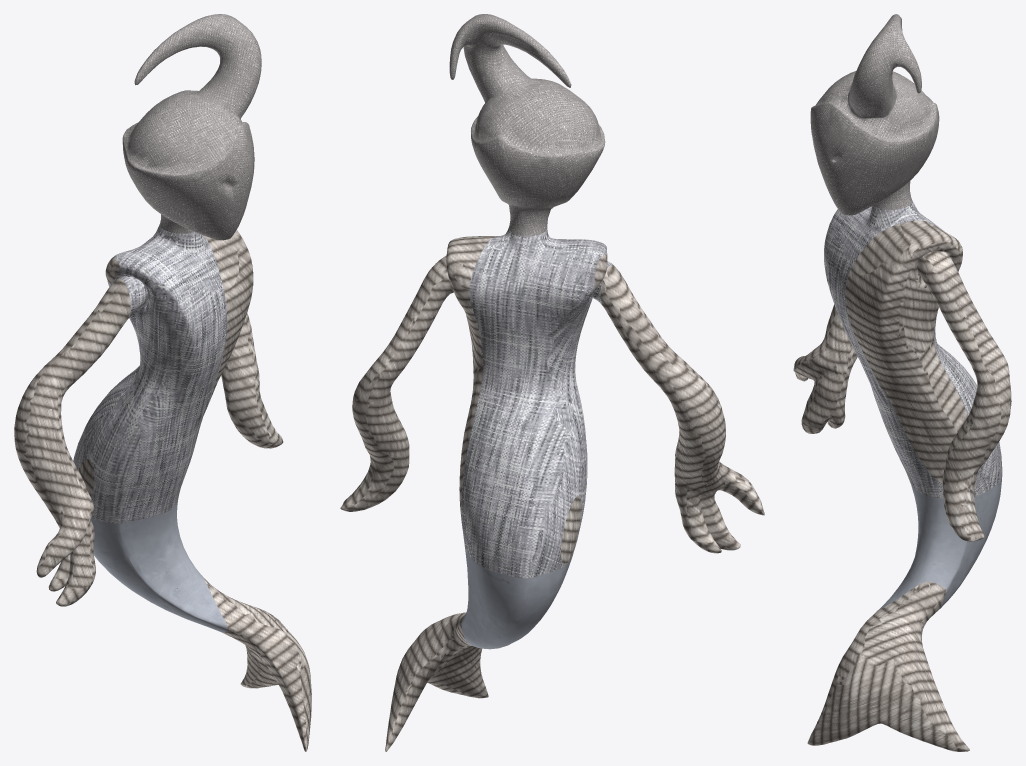
The model's file is 10-petal-wisp--fantasy_creature_3d_model4.glb.
The picture shows the model from 3 angles, left to right: view 1: azimuth 30°, elevation 25°; view 2: azimuth 150°, elevation 25°; view 3: azimuth 270°, elevation 25°; orthographic projection. The views are drawn at different scales.
Parts seen in each view (by area): view 1: arms_mesh, body_mesh, head_mesh, feet_mesh; view 2: body_mesh, arms_mesh, head_mesh, feet_mesh; view 3: arms_mesh, head_mesh, body_mesh, feet_mesh.
Boxes of the visible parts, x1,y1,x2,y2 form: arms_mesh: (14,229,311,751); body_mesh: (73,224,227,523); head_mesh: (122,14,261,240); feet_mesh: (91,501,227,632); body_mesh: (461,226,613,578); arms_mesh: (340,236,764,751); head_mesh: (449,14,605,236); feet_mesh: (461,551,571,649); arms_mesh: (793,220,1011,751); head_mesh: (810,14,939,215); body_mesh: (824,201,1002,498); feet_mesh: (876,470,1002,611).
Size of the model in its own units: 1.45 by 3 by 0.8488.
Materials: 4 (4 with a texture image).
